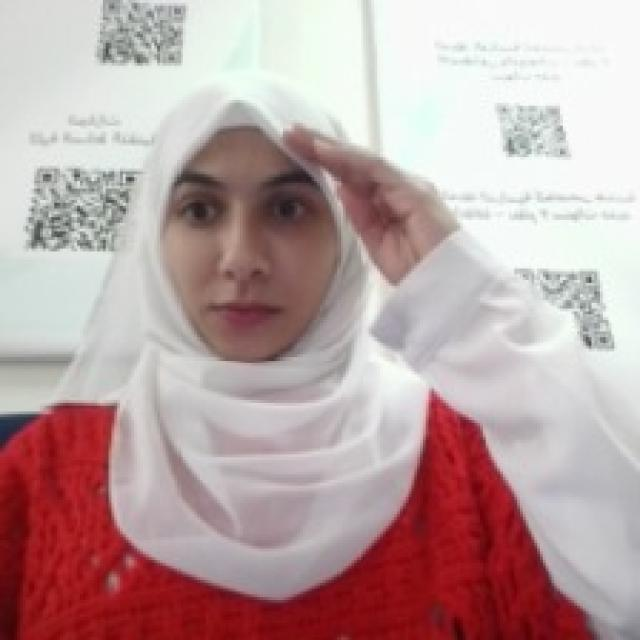Thanks: (274, 111, 460, 286)
